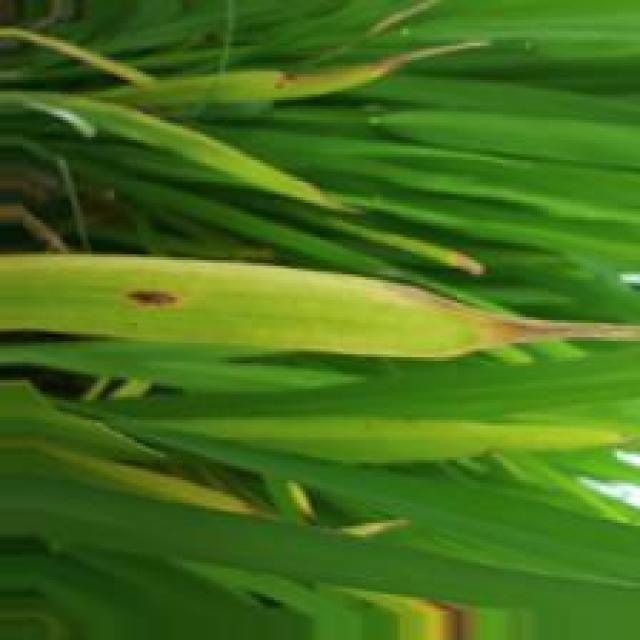Narrow_Brown_Leaf_Spot: (356, 274, 640, 364), (125, 284, 187, 308)
